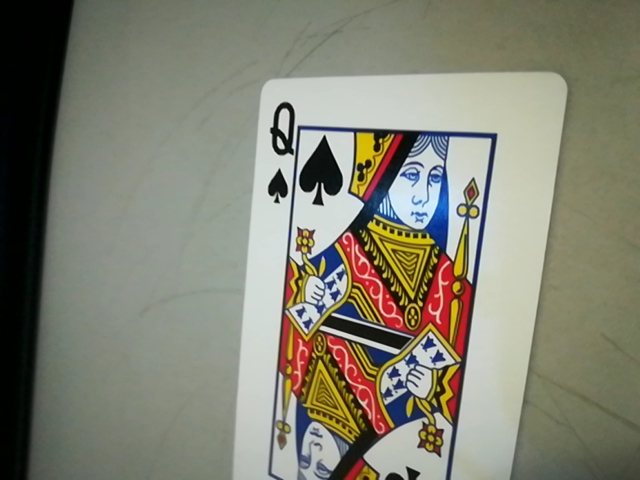ht q: (258, 96, 300, 207)
